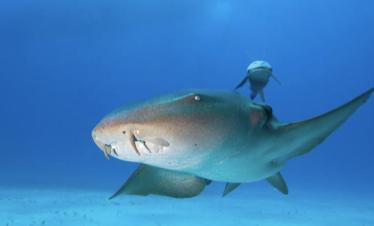Shark -Selachimorpha-: (88, 73, 374, 212)
